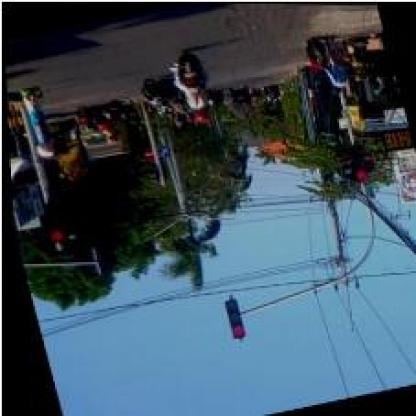red: (37, 200, 62, 244), (342, 141, 364, 182), (221, 298, 241, 336)
